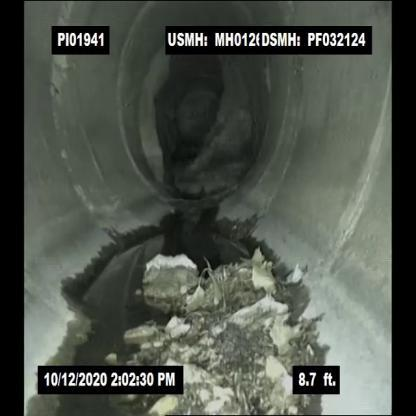Debris: (175, 252, 300, 361), (119, 231, 213, 308)
